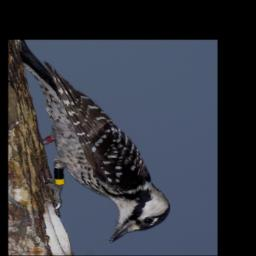Woodpecker: (17, 41, 172, 244)
